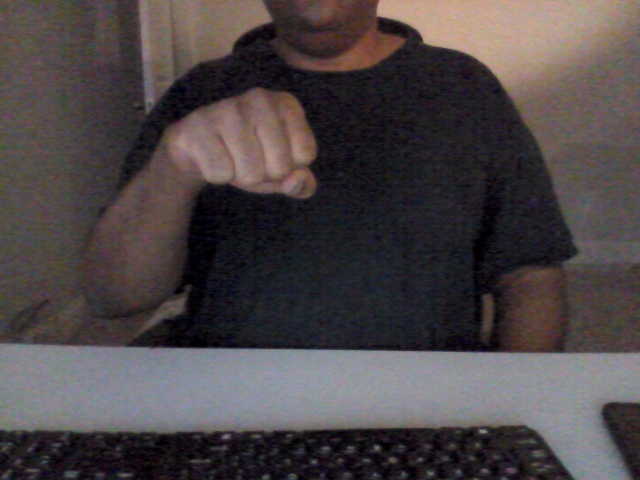yes: (158, 83, 323, 210)
